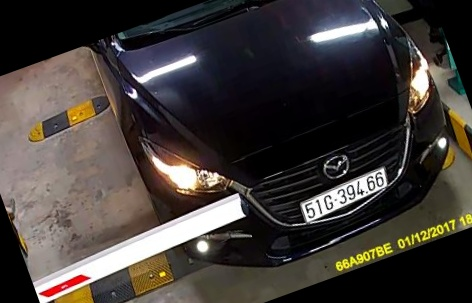plate: (290, 158, 392, 228)
